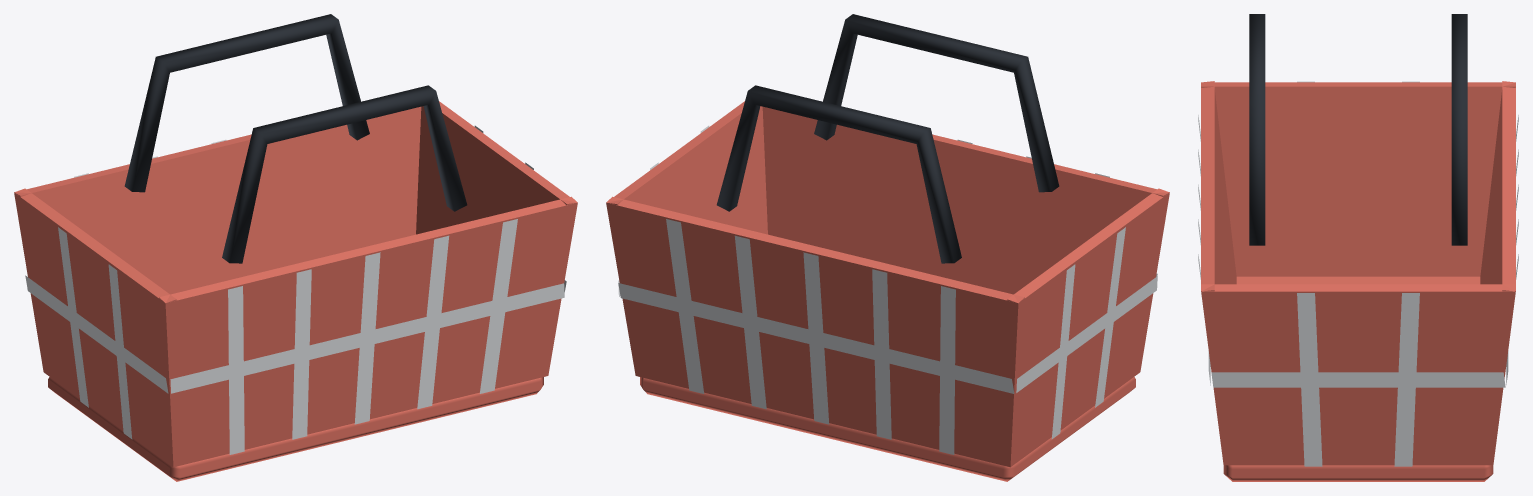
File: CM_Interior_ShoppingBasket.fbx
3 views of the same model, side by side, from view 1: azimuth 30°, elevation 25°; view 2: azimuth 150°, elevation 25°; view 3: azimuth 270°, elevation 25° (orthographic). The views are drawn at different scales.
Visible parts, largest first — view 1: Body; view 2: Body; view 3: Body.
Boxes of the visible parts, bbox=[...] form: Body: bbox=[14, 14, 577, 481]; Body: bbox=[606, 14, 1169, 481]; Body: bbox=[1198, 14, 1518, 481].
Bounding box in the file's own units: 2.22 × 1.42 × 1.63.
Materials: 1 (1 with a texture image).
